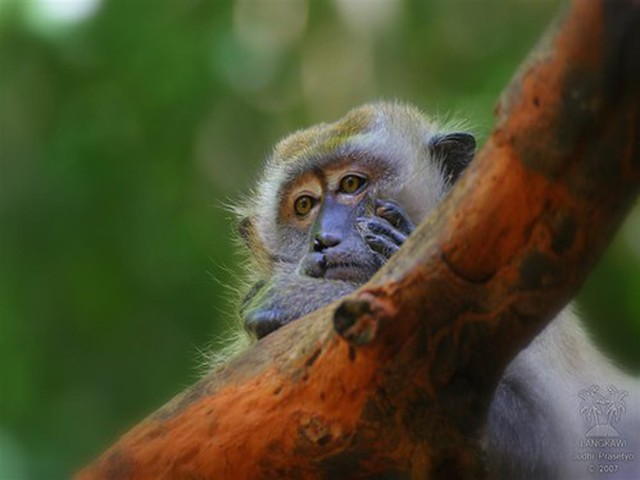Monkey: (235, 100, 494, 305)
